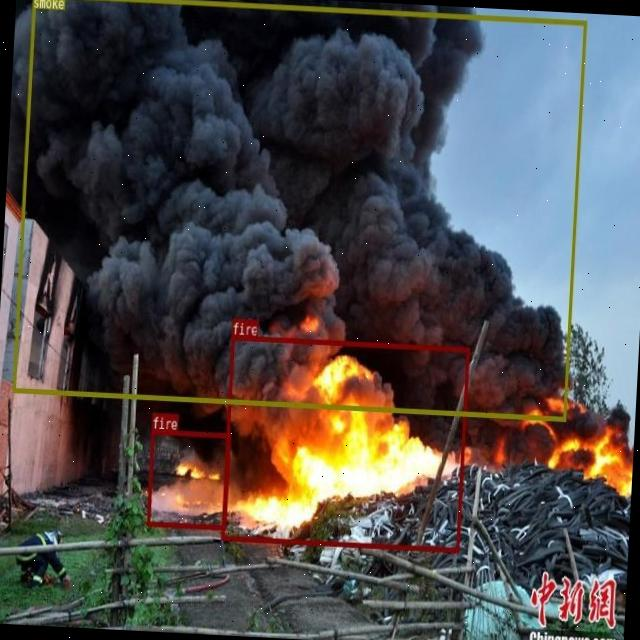fire: (221, 334, 468, 552), (146, 429, 230, 528)
smoke: (12, 0, 586, 419)
